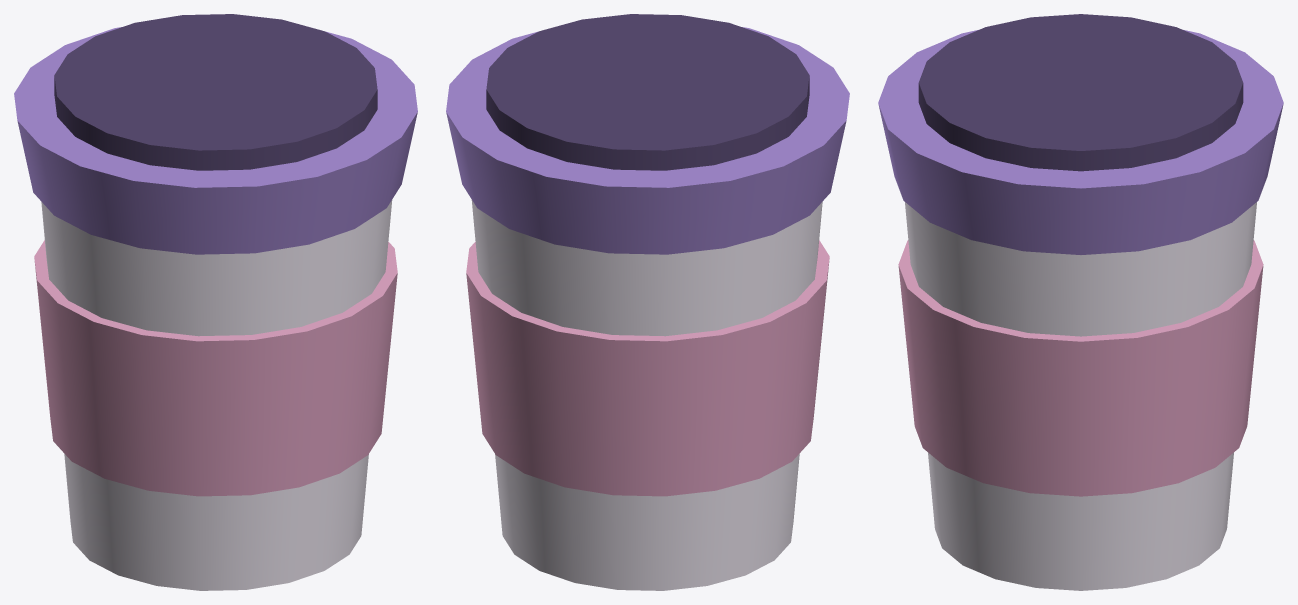
File: office-cup.glb
3 renders of one model, left to right at view 1: azimuth 30°, elevation 25°; view 2: azimuth 150°, elevation 25°; view 3: azimuth 270°, elevation 25°, orthographic.
Parts seen in each view (by area): view 1: sleeve, cup, lid-ring, lid; view 2: sleeve, cup, lid-ring, lid; view 3: sleeve, cup, lid-ring, lid.
Part boxes in pixels (box(x1,y1,x2,y2)): sleeve: box(34, 240, 397, 496); cup: box(41, 200, 392, 590); lid-ring: box(54, 14, 377, 170); lid: box(14, 27, 417, 254); sleeve: box(466, 240, 829, 496); cup: box(471, 200, 822, 590); lid-ring: box(486, 14, 809, 170); lid: box(446, 27, 849, 254); sleeve: box(898, 240, 1263, 496); cup: box(905, 202, 1256, 590); lid-ring: box(918, 14, 1243, 171); lid: box(878, 30, 1283, 254).
Bounding box in the file's own units: 0.5 × 0.6075 × 0.5.
